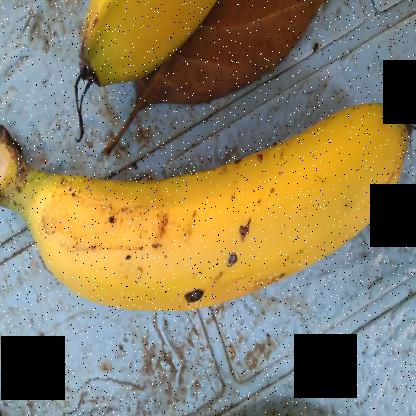ripe: (0, 97, 413, 324)
